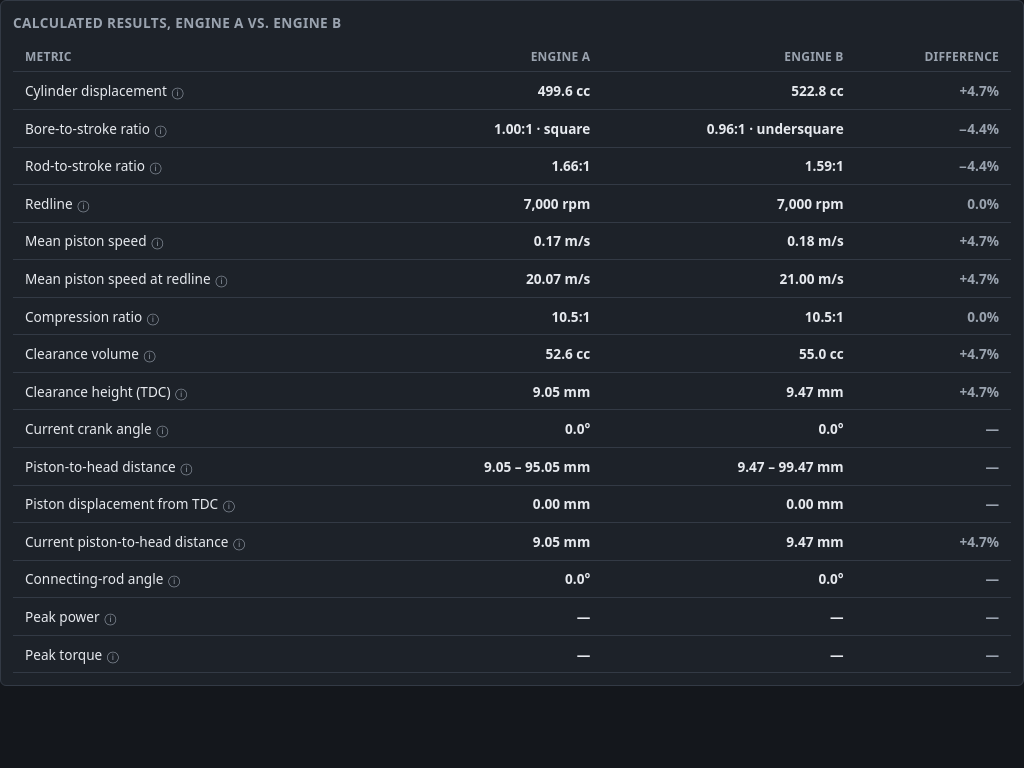
Test: ComparisonTable › metric info popups › keeps only one explainer open at a time
Click the button "Cylinder displacement ⓘ" at coordinates (96, 91), box [25,79,385,103]
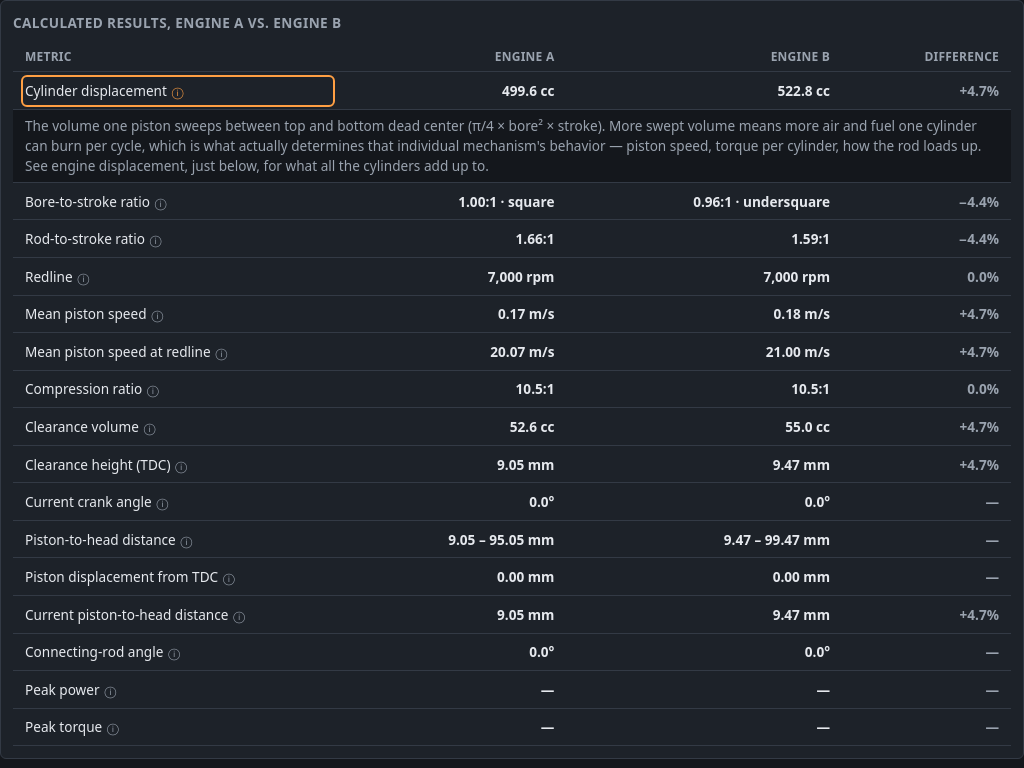
Click the button "Bore-to-stroke ratio ⓘ" at coordinates (88, 201), box [25,189,331,213]
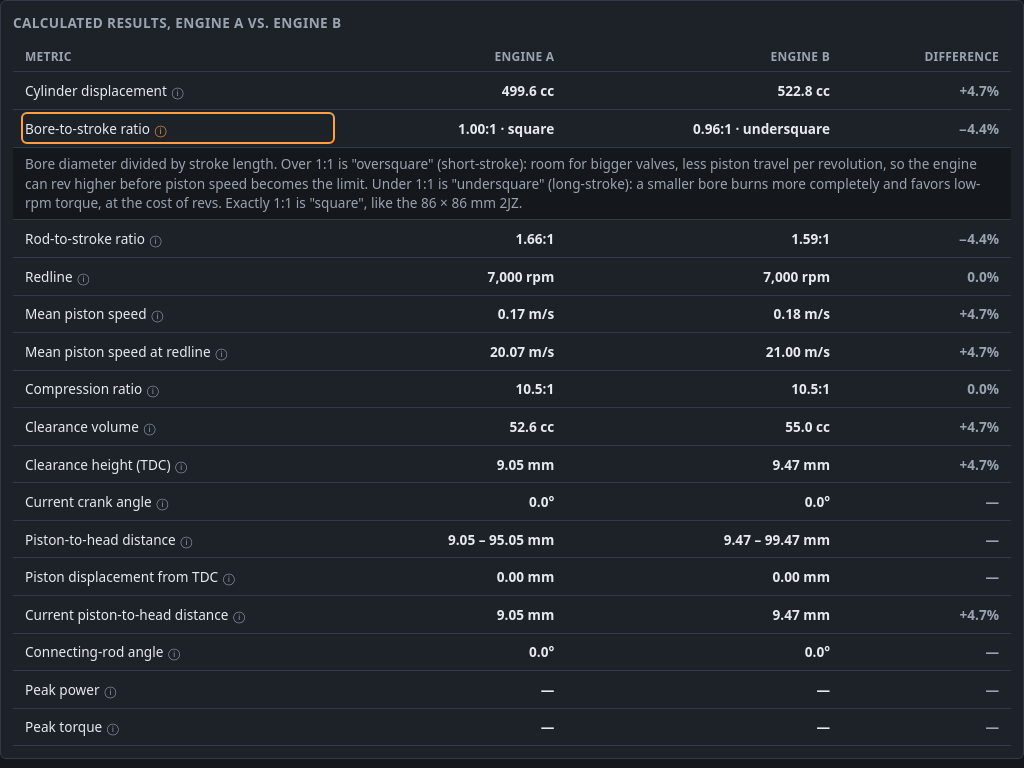
Expected: the button "Bore-to-stroke ratio ⓘ" is expanded, [25,116,331,140]
Expected: the button "Cylinder displacement ⓘ" is collapsed, [25,79,331,103]
Expected: the text "The volume one piston sweeps between top and bottom dead center (π/4 × bore² × stroke). More swept volume means more air" is gone
